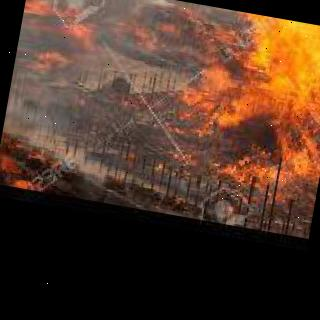fire: (178, 6, 320, 205), (0, 128, 52, 190)
